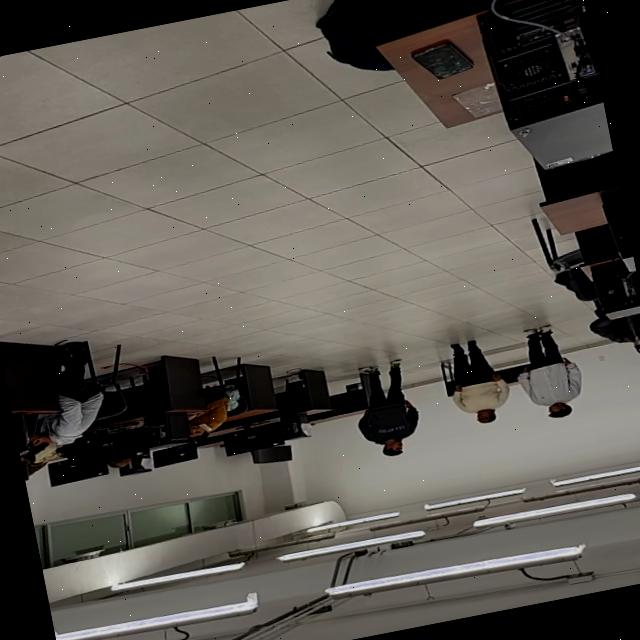Persona: (343, 352, 434, 466), (506, 317, 593, 428), (437, 330, 517, 431)
